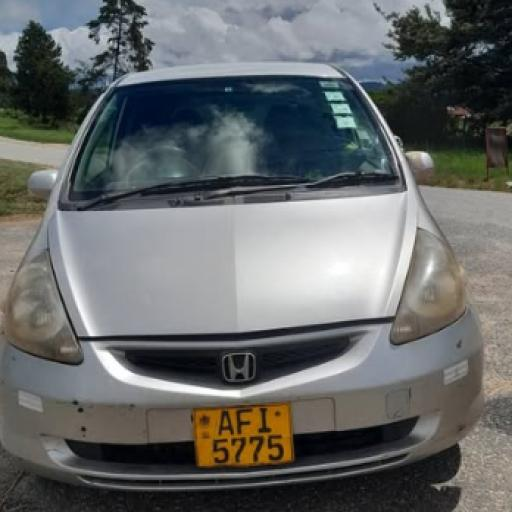number-plates: (196, 406, 289, 466)
